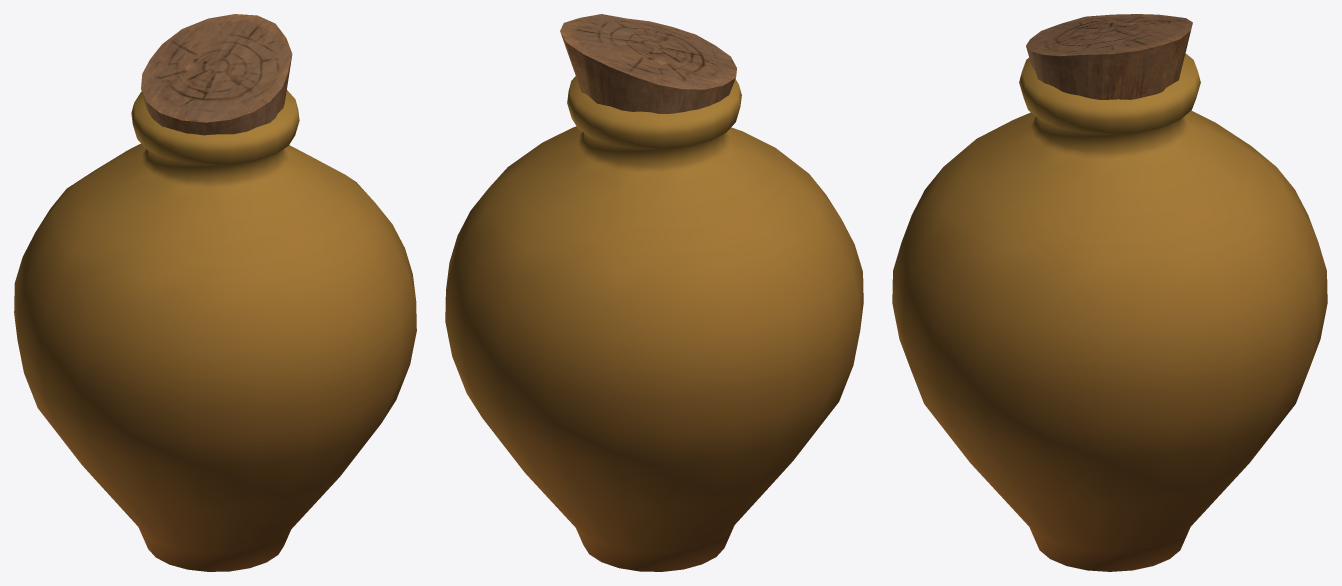
File: SM_Potion_Props_Bottle_Huge_03.fbx
The picture shows the model from 3 angles, left to right: view 1: azimuth 30°, elevation 25°; view 2: azimuth 150°, elevation 25°; view 3: azimuth 270°, elevation 25°; orthographic projection. The views are drawn at different scales.
Visible parts, largest first — view 1: SM_Potion_Props_Bottle_Huge_03_LOD0; view 2: SM_Potion_Props_Bottle_Huge_03_LOD0; view 3: SM_Potion_Props_Bottle_Huge_03_LOD0.
Part boxes in pixels (left/top/right/bottom): SM_Potion_Props_Bottle_Huge_03_LOD0: left=14, top=14, right=416, bottom=571; SM_Potion_Props_Bottle_Huge_03_LOD0: left=445, top=14, right=863, bottom=571; SM_Potion_Props_Bottle_Huge_03_LOD0: left=892, top=14, right=1327, bottom=571.
Size of what is drawn, in the model's own units: 48.99 by 65.87 by 48.99.
